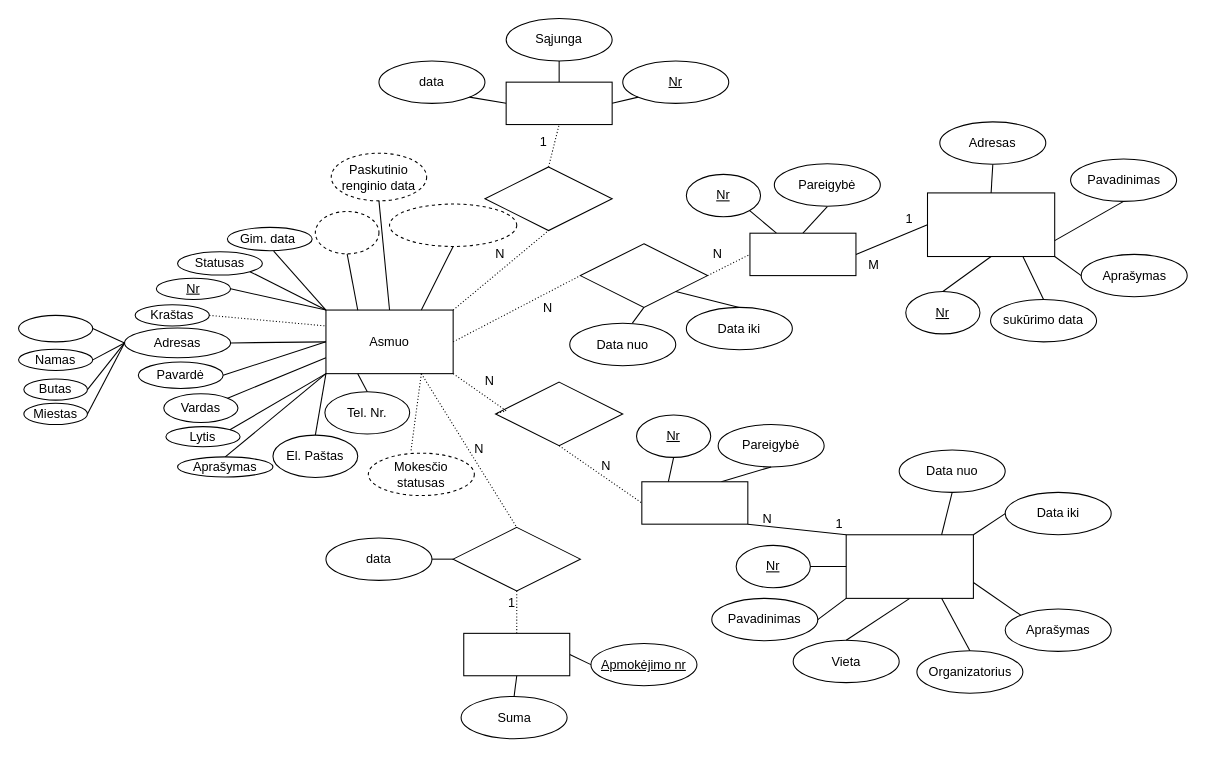
Image size: 1206x766. Some labels were removed from this diagram. The shapes that lost their labels are listed below. From the top down, each one's centre as x and y in pixels, then its label:
At point (558, 103): "Įžodis".
At point (548, 198): "Tapo narys".
At point (346, 232): "Amžius".
At point (452, 224): "Narystės_statusas".
At point (990, 224): "Vienetas".
At point (802, 254): "Vienetų_nariai".
At point (643, 275): "Priklauso".
At point (55, 328): "Gatvė".
At point (558, 413): "Dalyvauja".
At point (694, 502): "Renginio_dalyviai".
At point (516, 558): "Sumokėjo".
At point (909, 566): "Renginys".
At point (516, 654): "Nario mokestis".
